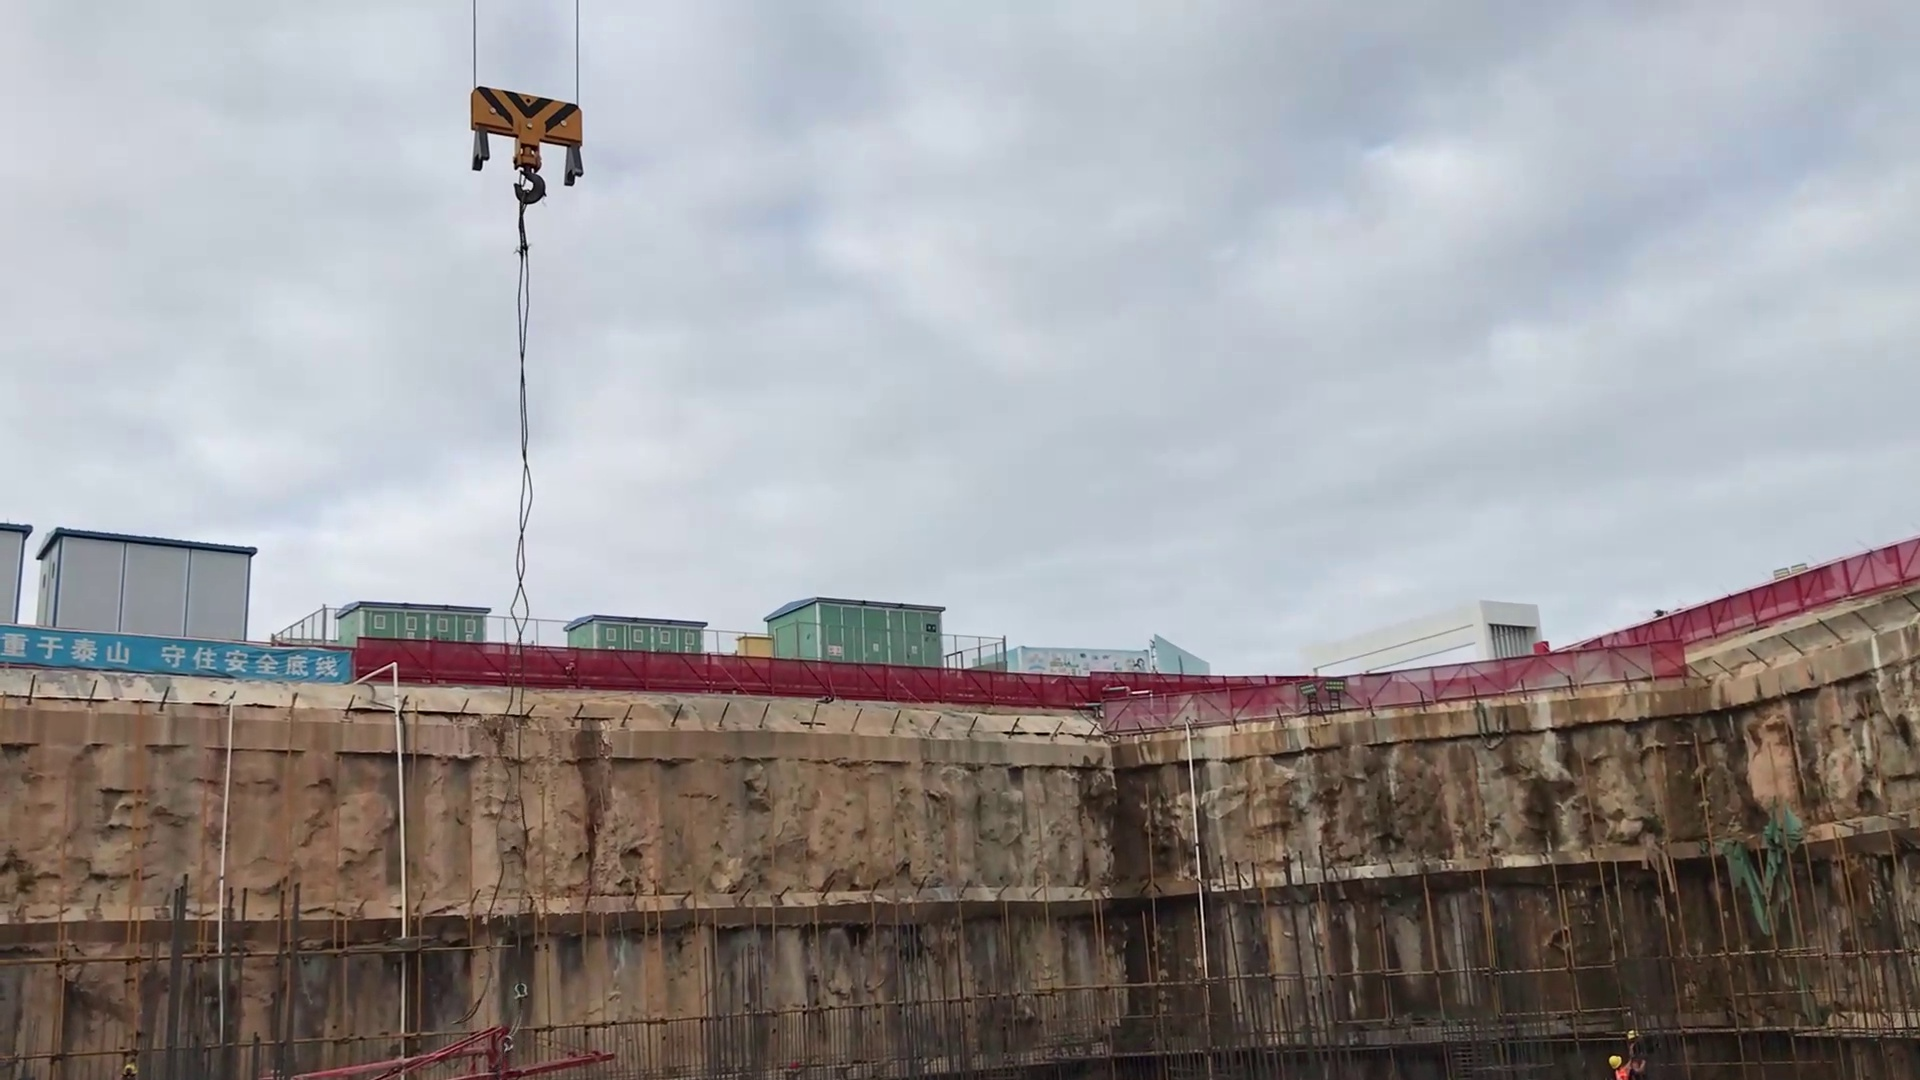helmet: (1609, 1056, 1621, 1069), (1627, 1030, 1638, 1040)
hook: (460, 78, 595, 215)
slogan: (1, 622, 353, 683)
vest: (1615, 1069, 1629, 1080)
